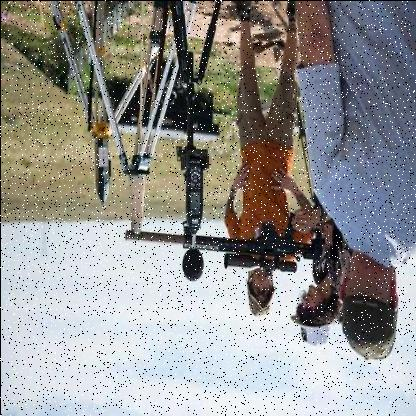rifle: (171, 193, 324, 284)
